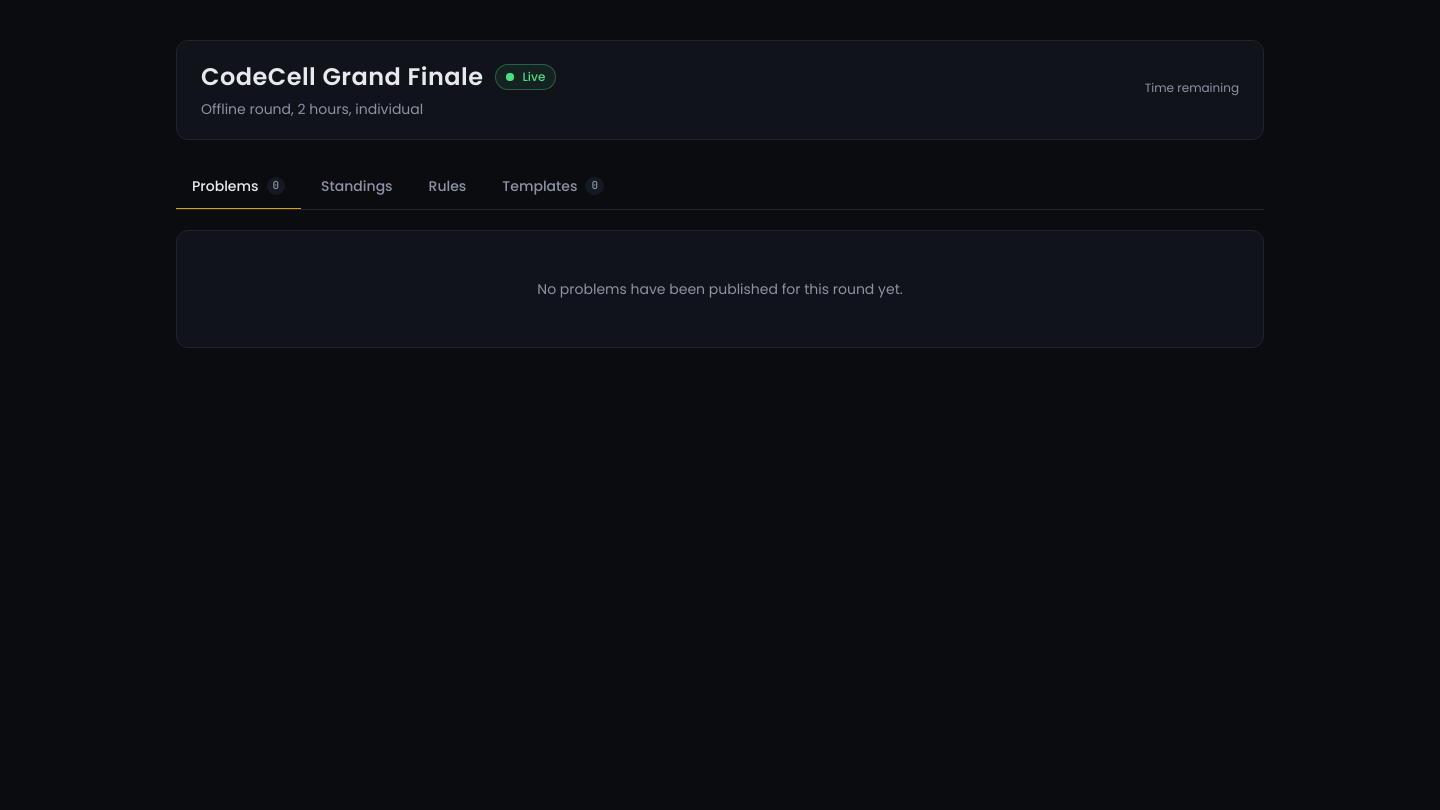
Test: finale contest page › keeps the round instructions on the page
Click the tab "Rules": (448, 187) [413, 164, 482, 210]
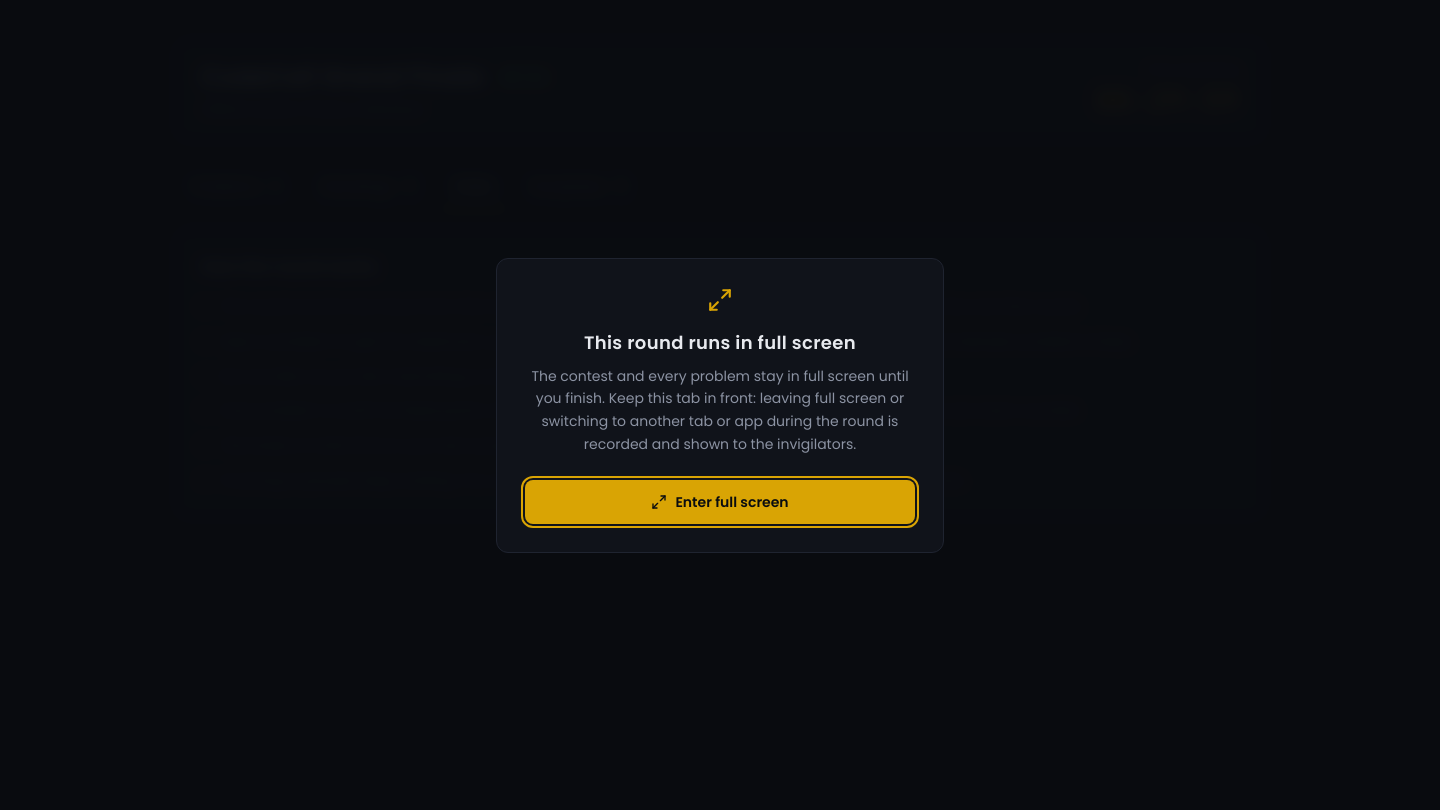
Check: the list item "Ties break on total time" is shown, box [219, 435, 853, 455]
